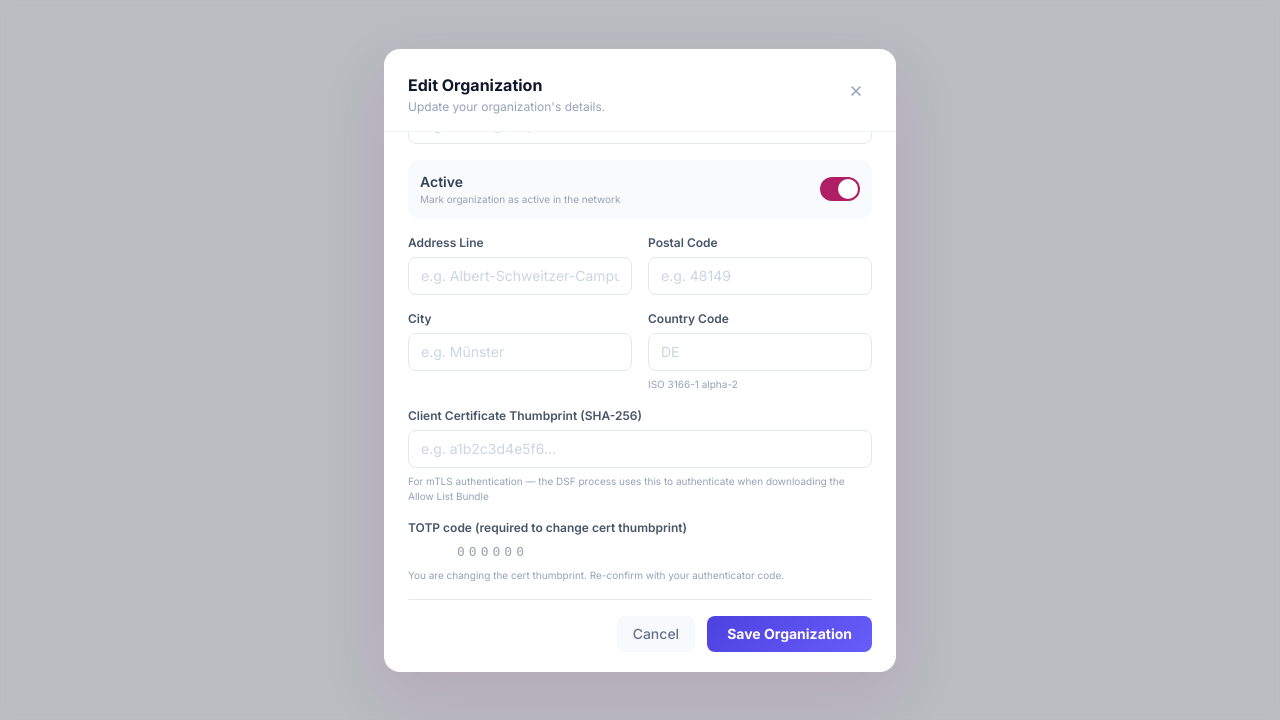
Test: translated form-validation messages › resolves schema error codes to English text, not the raw code
(page scrolled)
Click the button "Save Organization".
click(790, 634)  # box [707,616,872,652]
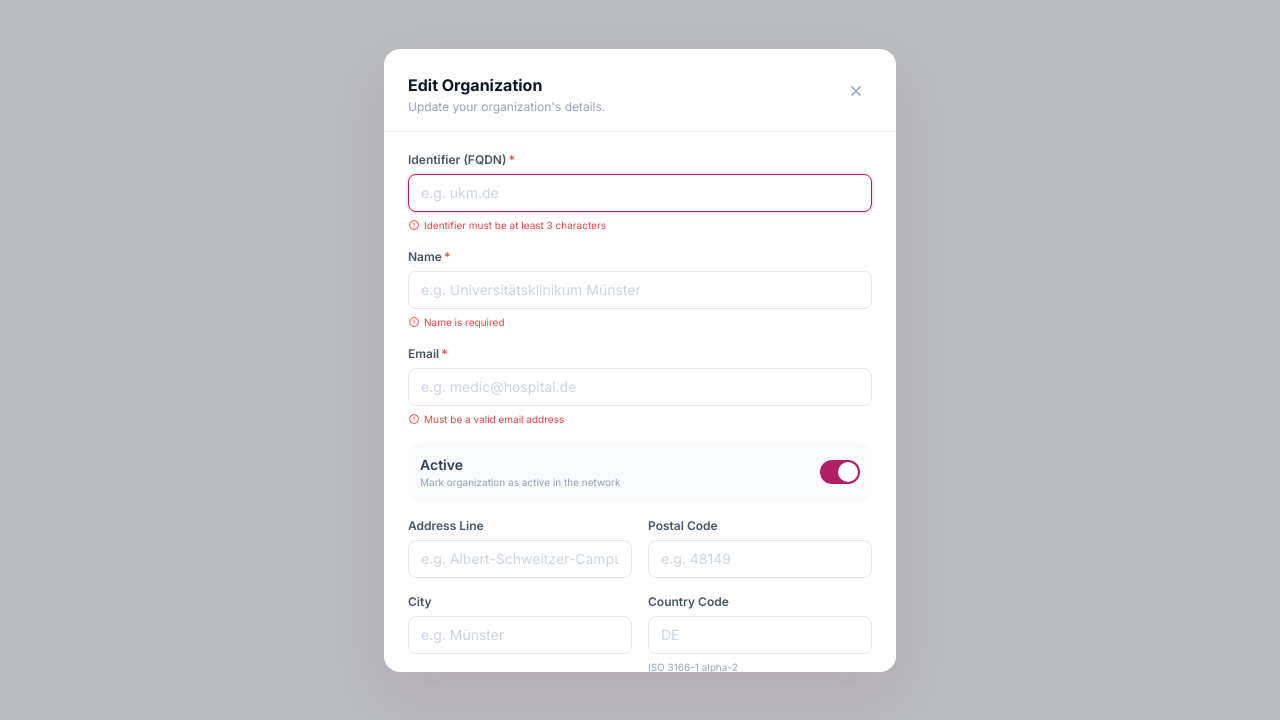
Check: the text "Name is required" is shown, box [408,315,504,329]
